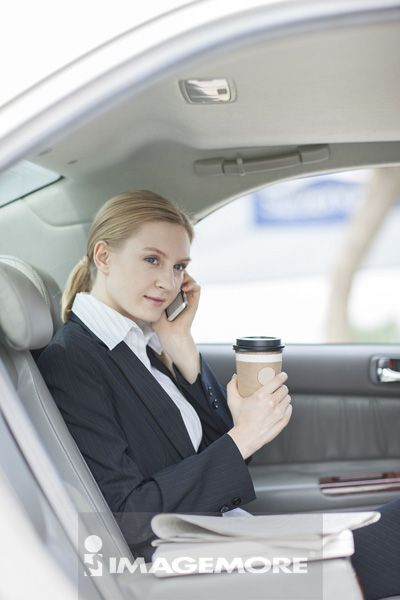talk: (132, 243, 199, 359)
